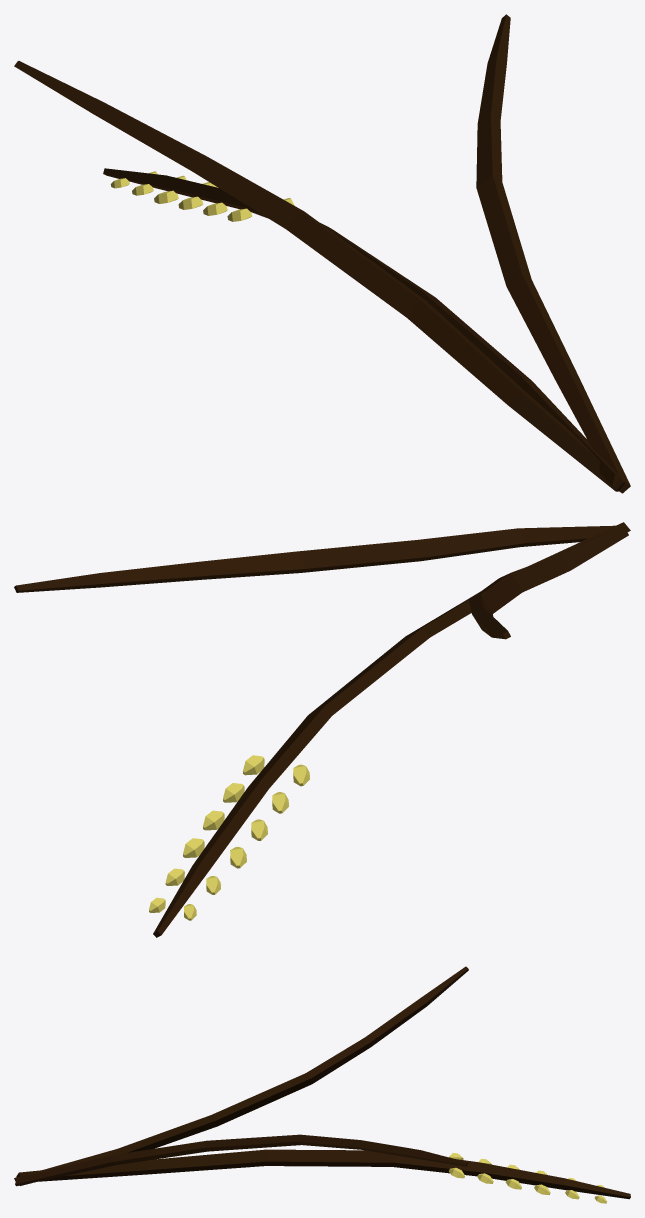
The model's file is RicePlant_(Outlined)_v002.fbx.
The picture shows the model from 3 angles, top to bottom: view 1: azimuth 30°, elevation 25°; view 2: azimuth 150°, elevation 25°; view 3: azimuth 270°, elevation 25°; orthographic projection. The views are drawn at different scales.
Visible parts, largest first — view 1: RicePlant; view 2: RicePlant; view 3: RicePlant.
Part boxes in pixels (left/top/right/bottom): RicePlant: left=14, top=14, right=630, bottom=493; RicePlant: left=14, top=522, right=630, bottom=937; RicePlant: left=14, top=966, right=630, bottom=1203.
Size of the model in its own units: 132 by 67.1 by 227.
